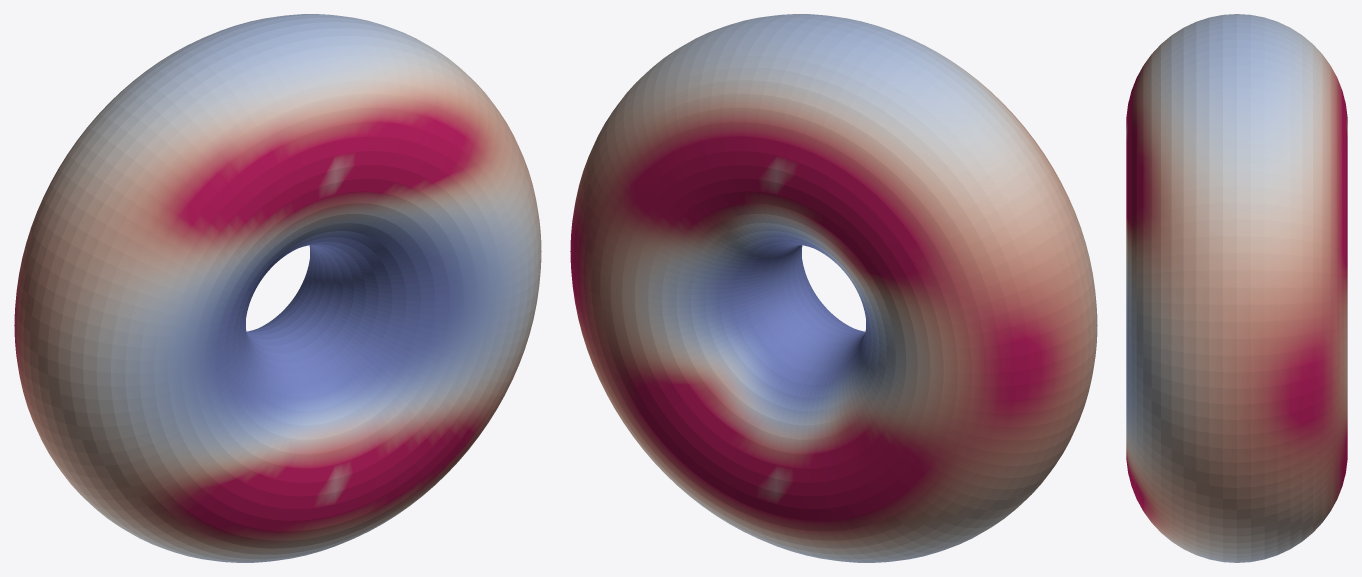
3 views of the same model, side by side, from view 1: azimuth 30°, elevation 25°; view 2: azimuth 150°, elevation 25°; view 3: azimuth 270°, elevation 25° (orthographic). The views are drawn at different scales.
Parts seen in each view (by area): view 1: world; view 2: world; view 3: world.
Boxes of the visible parts, x1,y1,x2,y2 form: world: [14, 14, 541, 562]; world: [570, 14, 1097, 562]; world: [1126, 14, 1347, 562].
Size of the model in its own units: 20.13 by 20.13 by 8.12.
